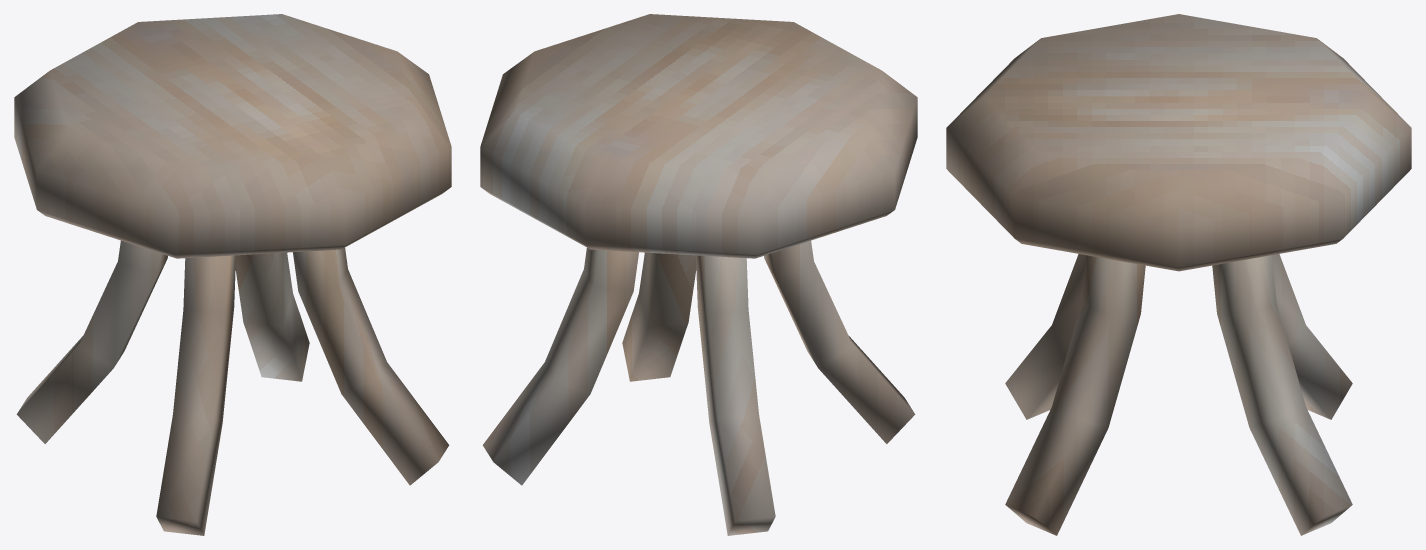
The model's file is stool.fbx.
3 renders of one model, left to right at view 1: azimuth 30°, elevation 25°; view 2: azimuth 150°, elevation 25°; view 3: azimuth 270°, elevation 25°, orthographic. The views are drawn at different scales.
Parts seen in each view (by area): view 1: Cylinder001, Cylinder005, Cylinder004, Cylinder003, Cylinder002; view 2: Cylinder001, Cylinder003, Cylinder002, Cylinder005, Cylinder004; view 3: Cylinder001, Cylinder002, Cylinder004, Cylinder003, Cylinder005.
Boxes of the visible parts, x1=… form: Cylinder001: x1=14, y1=14, x2=451, y2=258; Cylinder005: x1=156, y1=255, x2=235, y2=535; Cylinder004: x1=293, y1=247, x2=449, y2=485; Cylinder003: x1=16, y1=240, x2=167, y2=443; Cylinder002: x1=235, y1=252, x2=309, y2=381; Cylinder001: x1=480, y1=14, x2=917, y2=258; Cylinder003: x1=696, y1=255, x2=775, y2=535; Cylinder002: x1=482, y1=247, x2=638, y2=485; Cylinder005: x1=764, y1=240, x2=915, y2=443; Cylinder004: x1=622, y1=252, x2=696, y2=381; Cylinder001: x1=946, y1=14, x2=1411, y2=271; Cylinder002: x1=1212, y1=255, x2=1352, y2=535; Cylinder004: x1=1005, y1=255, x2=1145, y2=535; Cylinder003: x1=1272, y1=254, x2=1352, y2=419; Cylinder005: x1=1005, y1=254, x2=1085, y2=419.
Bounding box in the file's own units: 4.06 × 3.61 × 4.06.
1 material, 1 textured.
